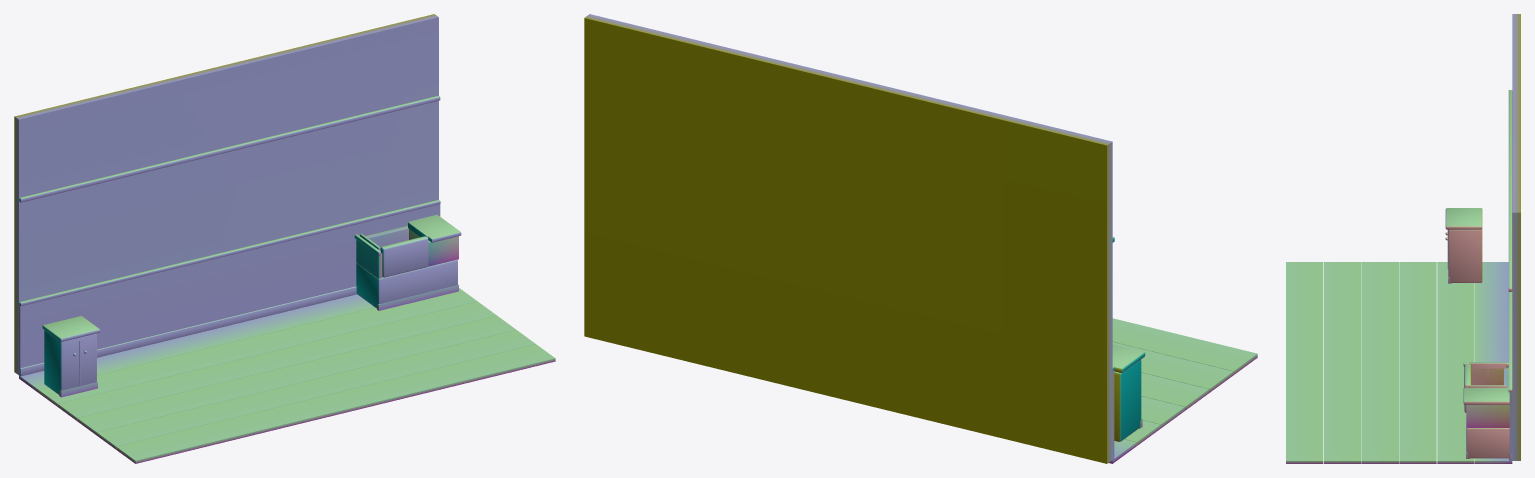
File: kitchen_arch.glb
3 renders of one model, left to right at view 1: azimuth 30°, elevation 25°; view 2: azimuth 150°, elevation 25°; view 3: azimuth 270°, elevation 25°, orthographic. The views are drawn at different scales.
Parts seen in each view (by area): view 1: kitchen_arch; view 2: kitchen_arch; view 3: kitchen_arch.
Part boxes in pixels (x1=…): kitchen_arch: x1=14, y1=14, x2=555, y2=463; kitchen_arch: x1=584, y1=14, x2=1257, y2=463; kitchen_arch: x1=1286, y1=14, x2=1520, y2=463.
Size of the model in its own units: 5.5 by 3.24 by 2.75.
